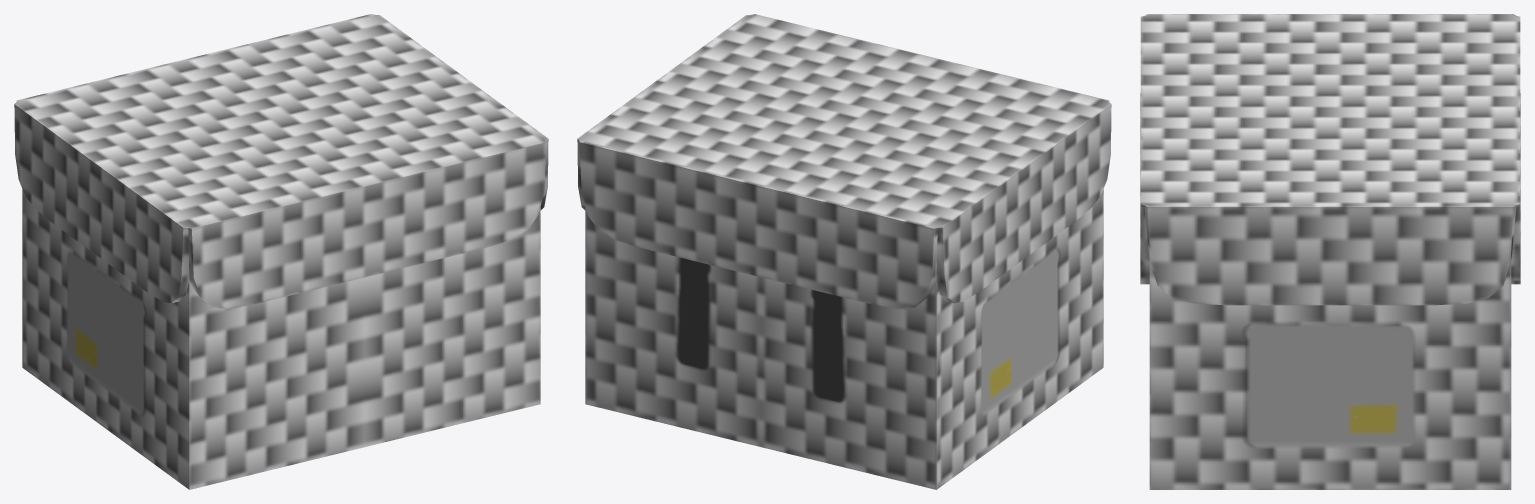
File: Prfb_Starter.fbx
3 views of the same model, side by side, from view 1: azimuth 30°, elevation 25°; view 2: azimuth 150°, elevation 25°; view 3: azimuth 270°, elevation 25° (orthographic). The views are drawn at different scales.
Parts seen in each view (by area): view 1: Mat_Lootbox_02; view 2: Mat_Lootbox_02; view 3: Mat_Lootbox_02.
Boxes of the visible parts, x1,y1,x2,y2 form: Mat_Lootbox_02: [14, 14, 548, 489]; Mat_Lootbox_02: [577, 14, 1111, 489]; Mat_Lootbox_02: [1140, 14, 1520, 489].
Bounding box in the file's own units: 0.8429 × 0.5818 × 0.6995.
1 material, 1 textured.
